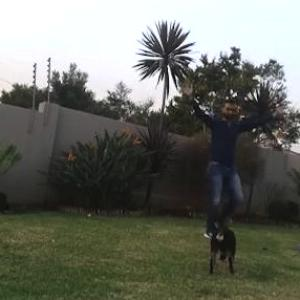takeoff: (188, 72, 285, 247)
